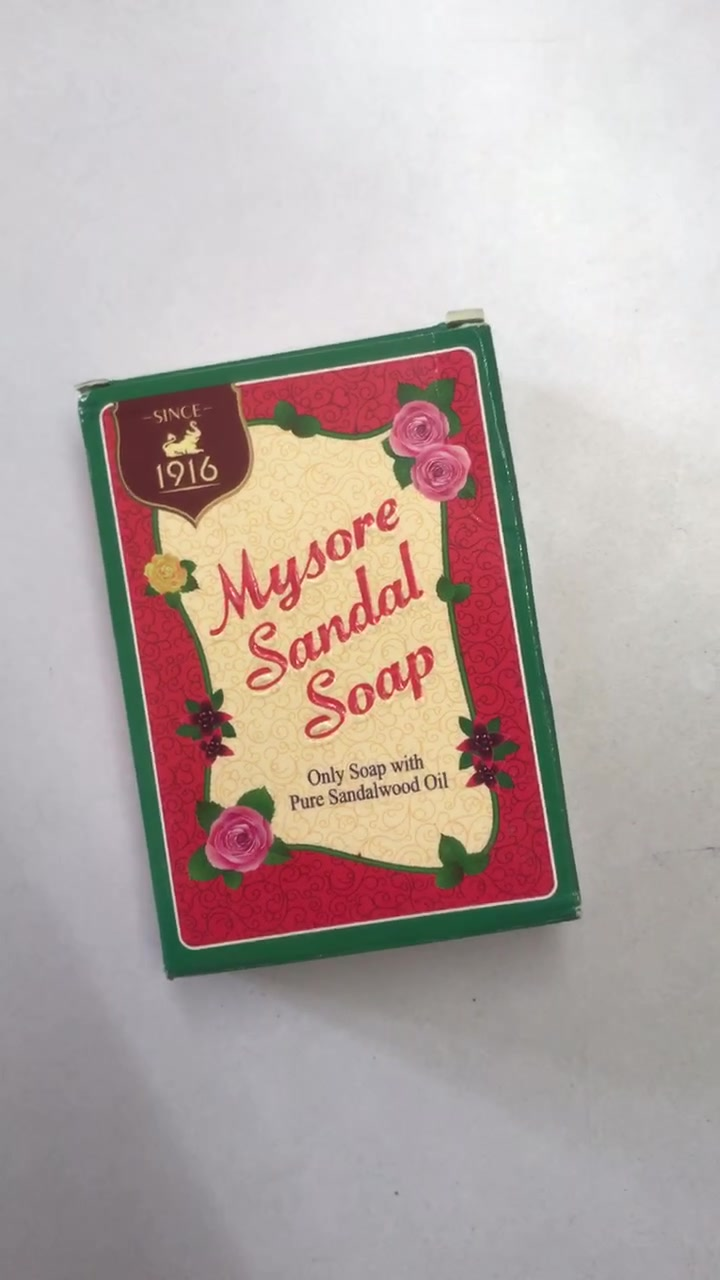mysore sandal soap: (85, 338, 577, 982)
